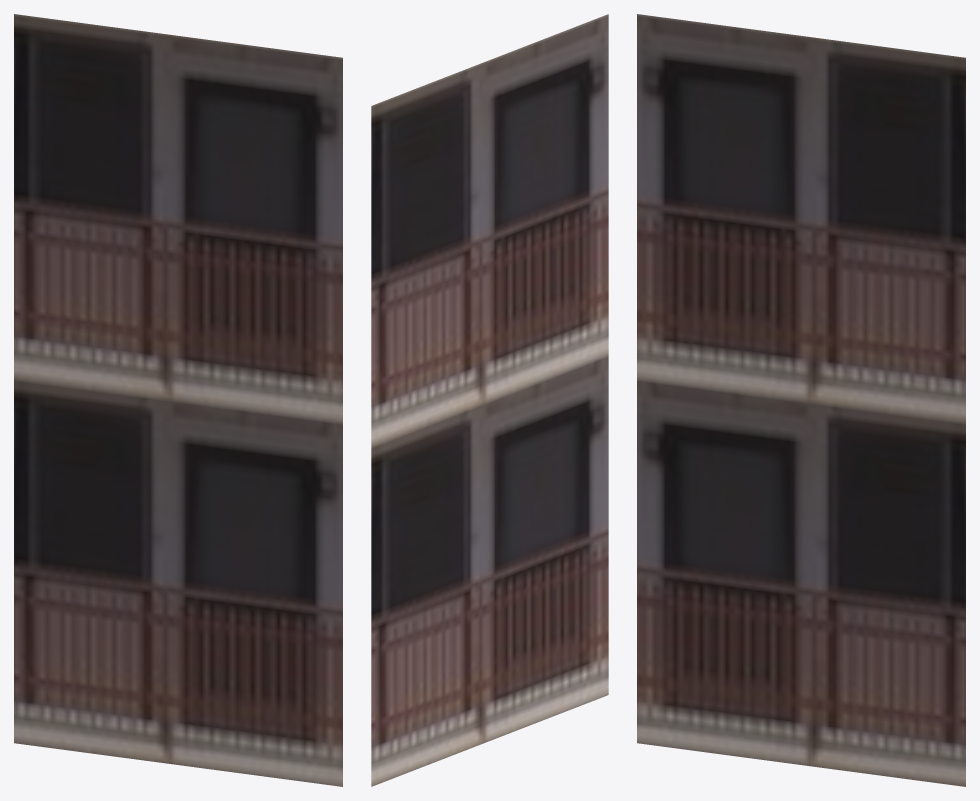
Rendered from ResTex__3308.fbx.
3 renders of one model, left to right at view 1: azimuth 90°, elevation 25°; view 2: azimuth 150°, elevation 25°; view 3: azimuth 270°, elevation 25°, orthographic. The views are drawn at different scales.
Visible parts, largest first — view 1: CityEngineMaterial_6_m; view 2: CityEngineMaterial_6_m; view 3: CityEngineMaterial_6_m.
Boxes of the visible parts, x1=… form: CityEngineMaterial_6_m: x1=14, y1=14, x2=342, y2=786; CityEngineMaterial_6_m: x1=371, y1=14, x2=608, y2=786; CityEngineMaterial_6_m: x1=637, y1=14, x2=965, y2=786.
Bounding box in the file's own units: 0.7725 × 6 × 2.45.
Materials: 1 (1 with a texture image).
